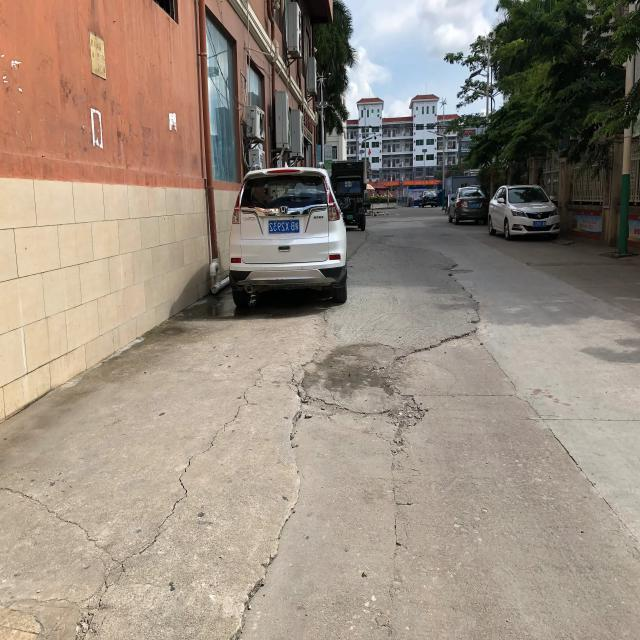pothole: (282, 338, 425, 451)
